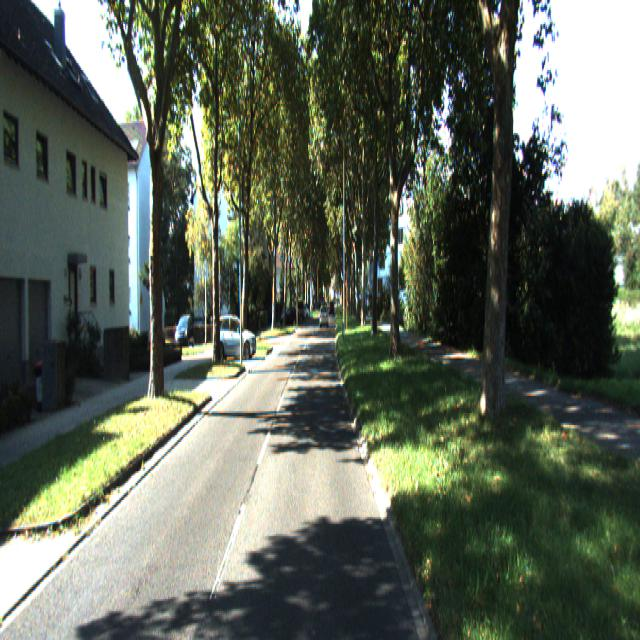Car: (210, 312, 258, 358)
